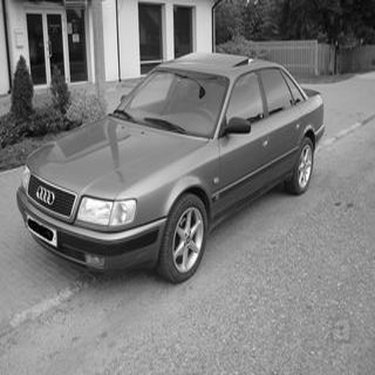car: (14, 47, 331, 286)
